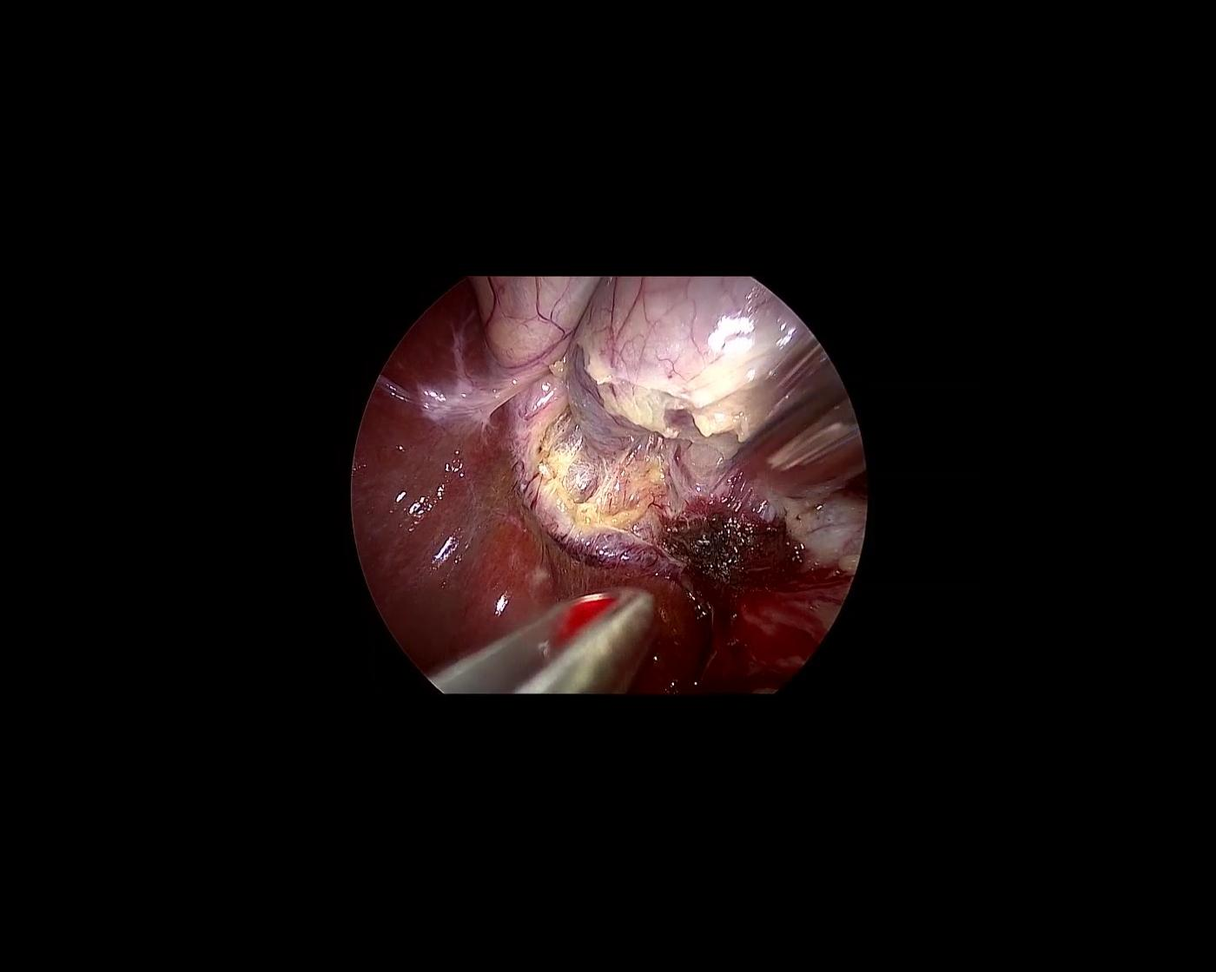Forceps: (426, 586, 653, 693), (727, 333, 866, 505)
Gallbladder: (475, 280, 804, 464)
Liver: (254, 282, 719, 795)
